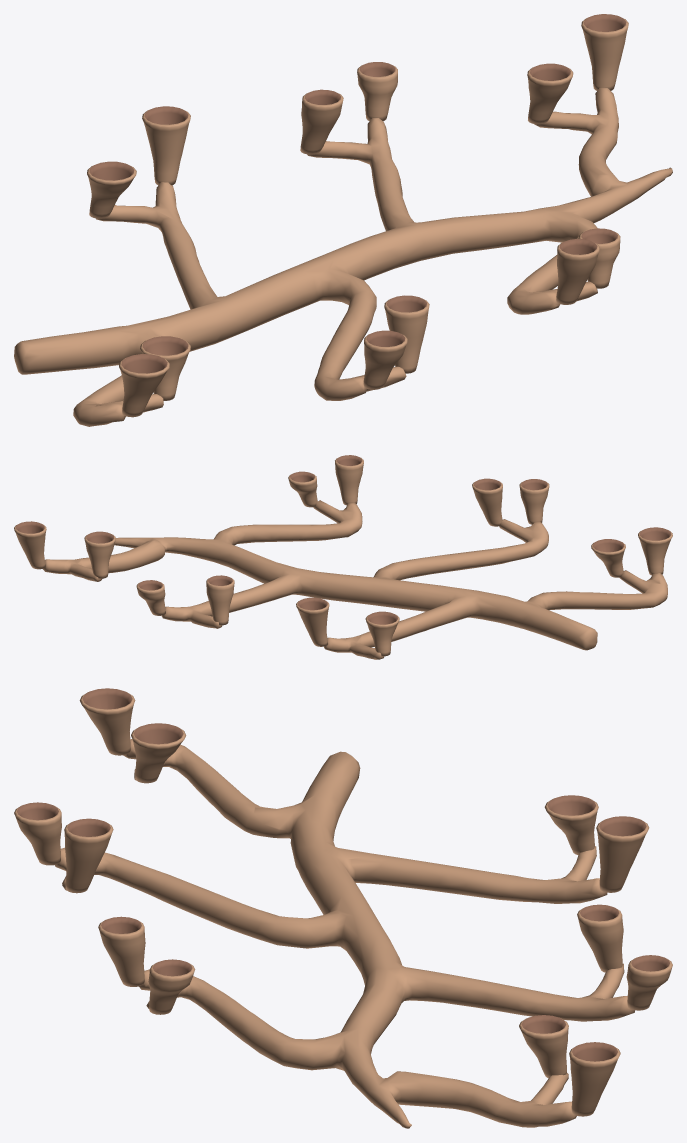
The model's file is aulopora.glb.
3 views of the same model, one above another, from view 1: azimuth 30°, elevation 25°; view 2: azimuth 150°, elevation 25°; view 3: azimuth 270°, elevation 25° (orthographic). The views are drawn at different scales.
Parts seen in each view (by area): view 1: creeping-tube-network, upturned-trumpet-cups-with-real-cavities; view 2: creeping-tube-network, upturned-trumpet-cups-with-real-cavities; view 3: creeping-tube-network, upturned-trumpet-cups-with-real-cavities.
Part boxes in pixels (left/top/right/bottom): creeping-tube-network: left=14, top=87, right=672, bottom=426; upturned-trumpet-cups-with-real-cavities: left=87, top=14, right=628, bottom=417; creeping-tube-network: left=43, top=500, right=667, bottom=659; upturned-trumpet-cups-with-real-cavities: left=14, top=455, right=672, bottom=656; creeping-tube-network: left=54, top=739, right=634, bottom=1128; upturned-trumpet-cups-with-real-cavities: left=14, top=688, right=672, bottom=1116.
Size of the model in its own units: 0.15 by 0.0189 by 0.1061.
